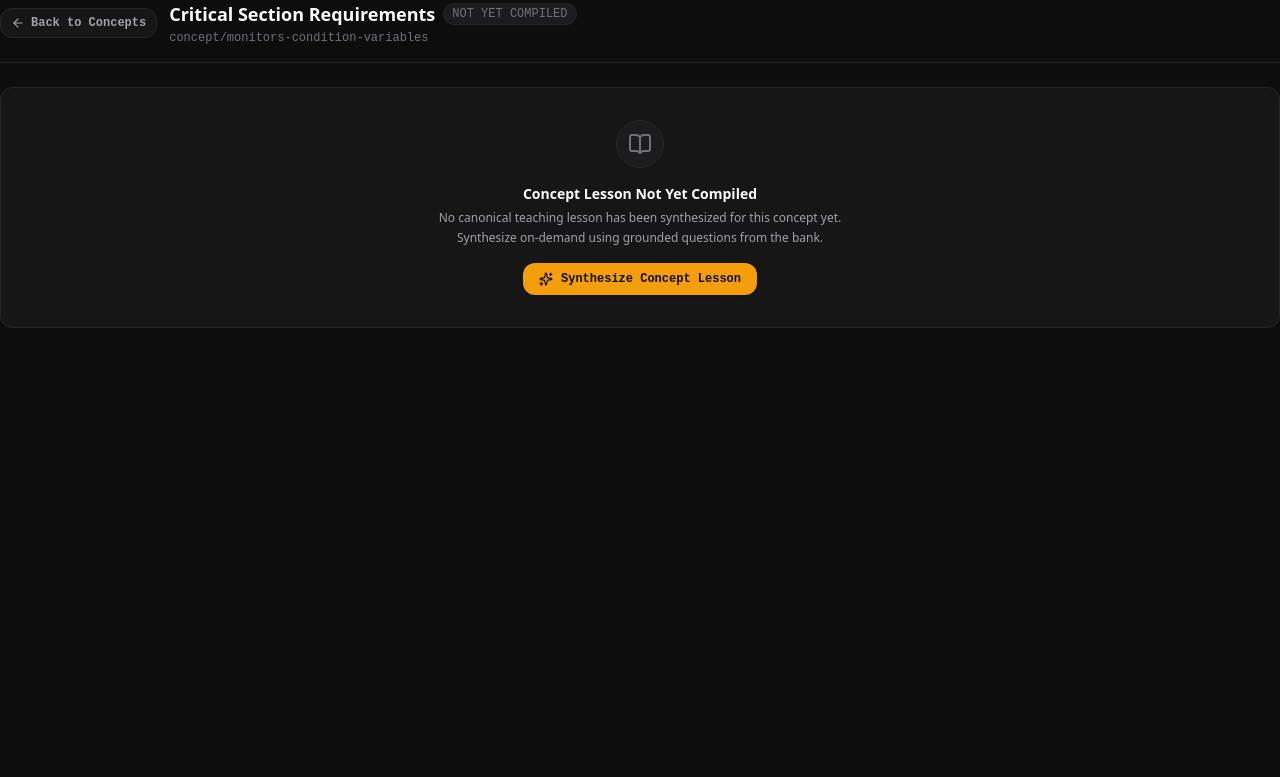
Scenario: TopicConceptsTab Component › honest-judge PASS - allows students to generate an absent concept lesson without force
Step 1. Click the button with test id "generate-lesson-btn" → [640, 279], box [523,263,757,295]
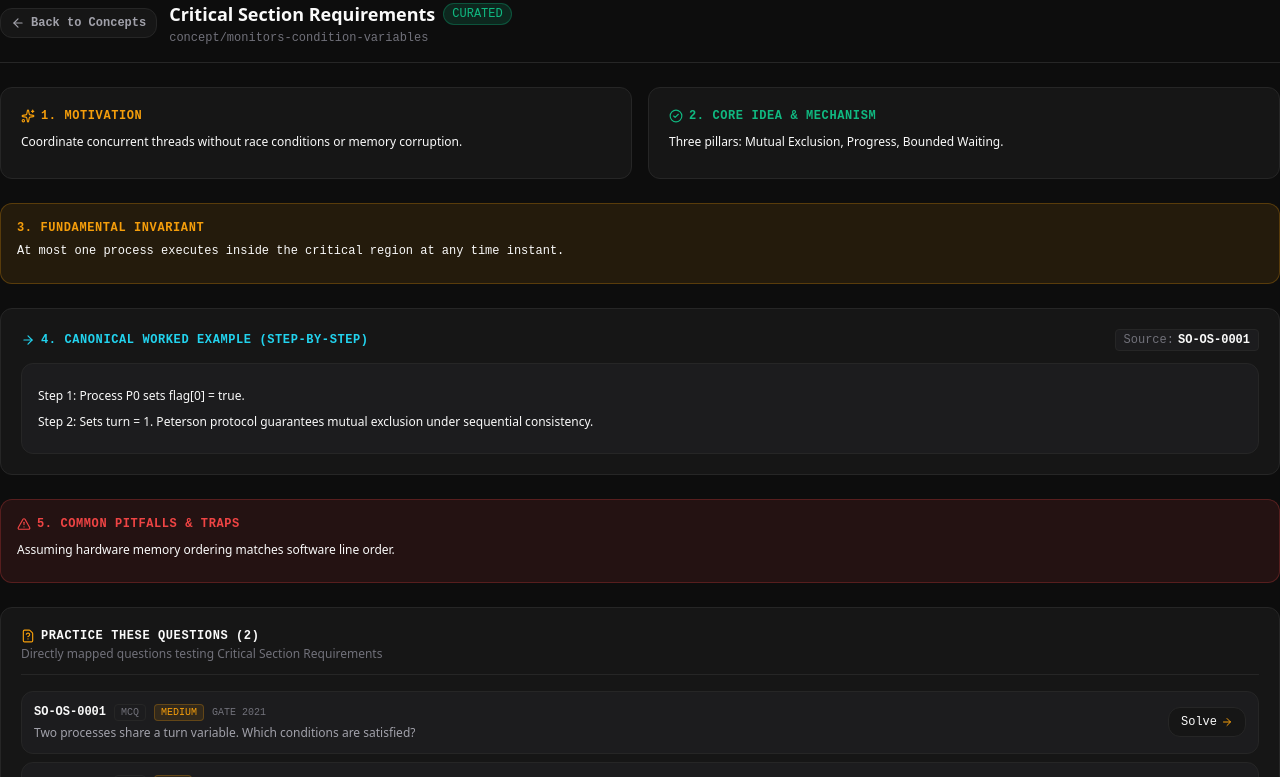
Now the element with test id "lesson-motivation" is shown, box [21,133,462,150]
